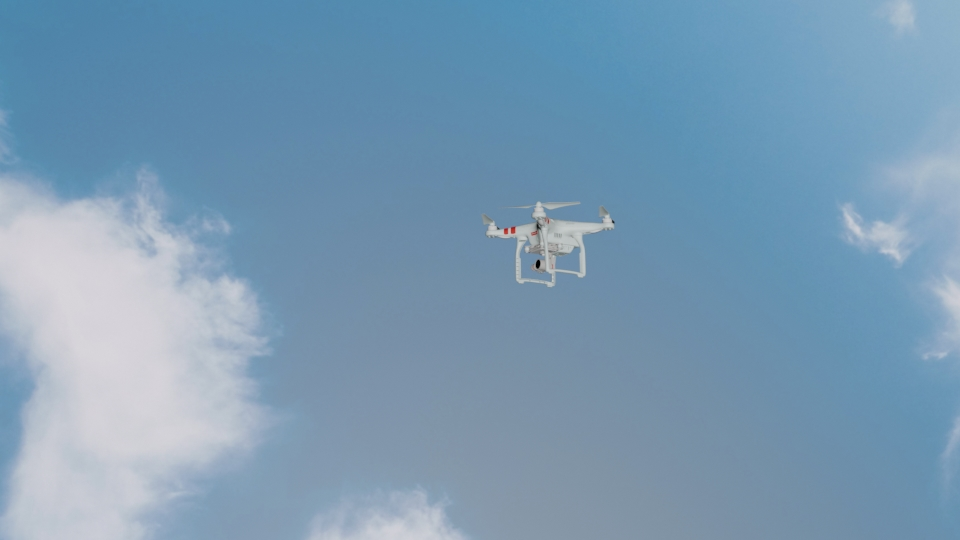drone: (478, 201, 616, 290)
